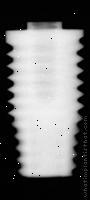Biomet 3i: (5, 23, 84, 178)
